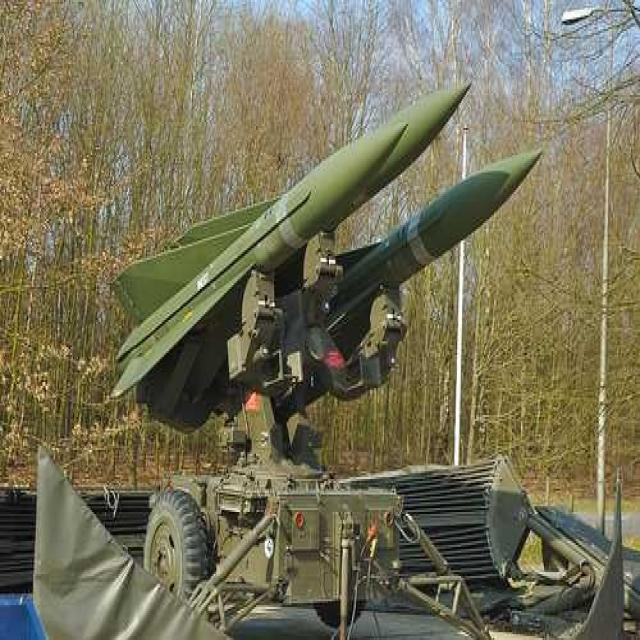missile: (96, 119, 408, 428), (302, 145, 542, 410)
